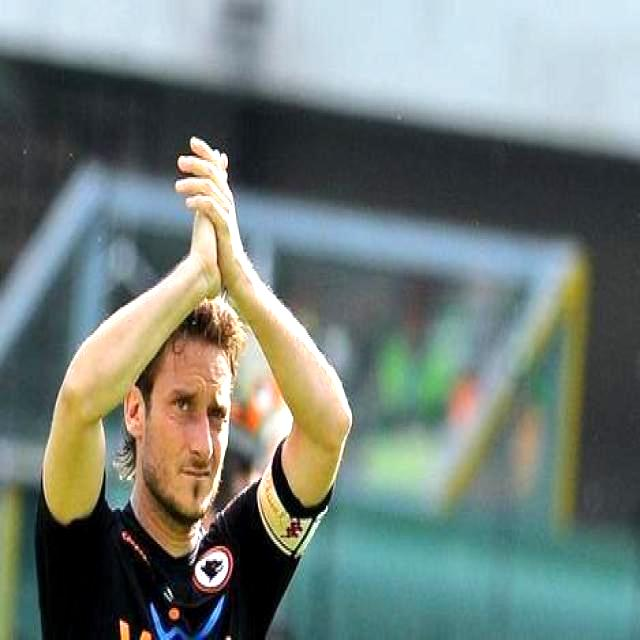no_head_wear: (145, 294, 243, 399)
person: (37, 139, 351, 638)
